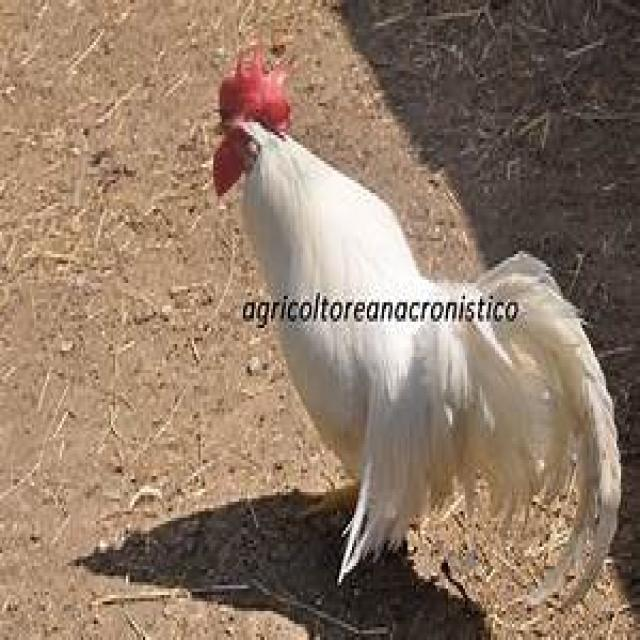hen: (209, 48, 623, 630)
